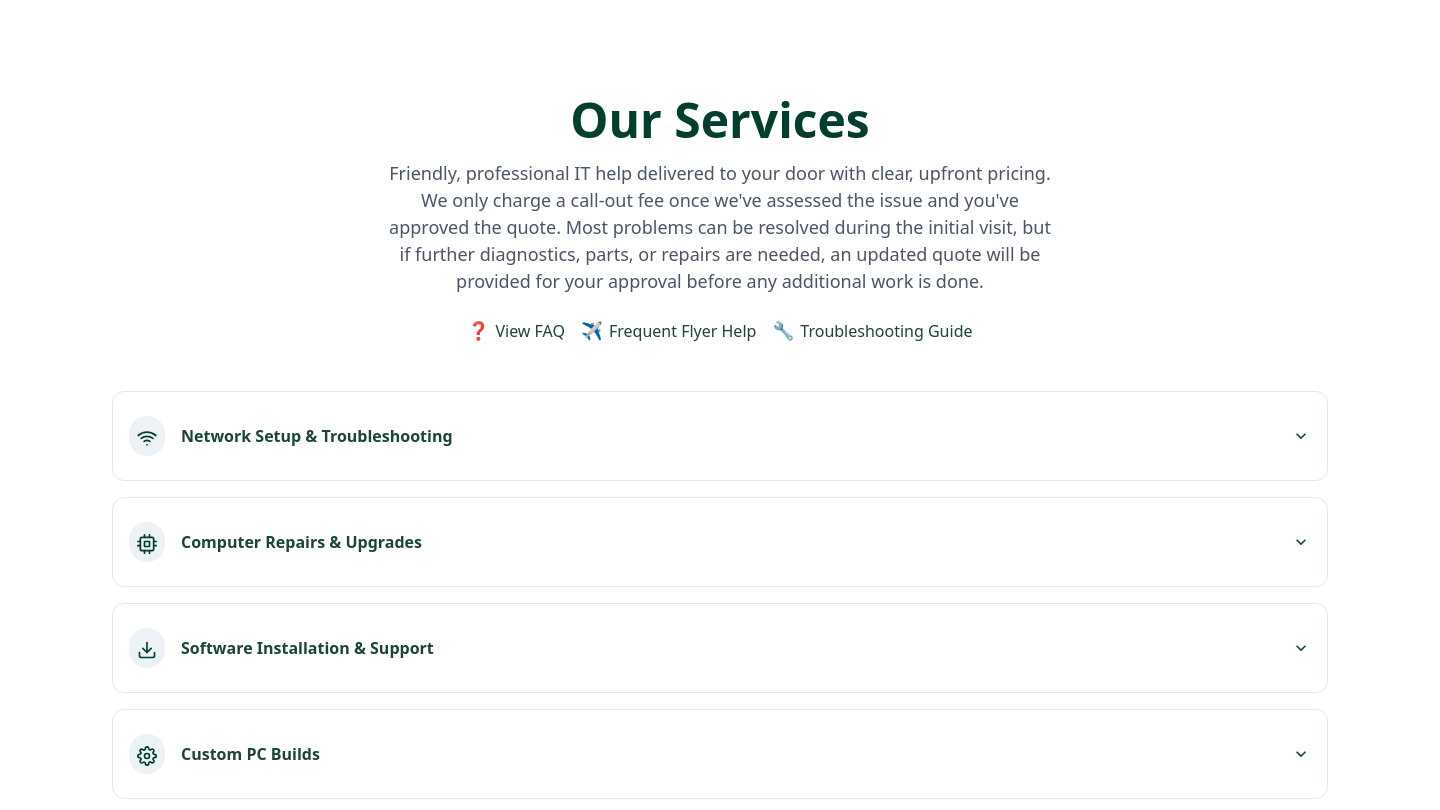
Test case: ServicesPage › renders services in mobile view with accordion
// Test accordion interaction
Step 1. Click the button "Network Setup & Troubleshooting" → [147, 436], box [113,392,1327,480]
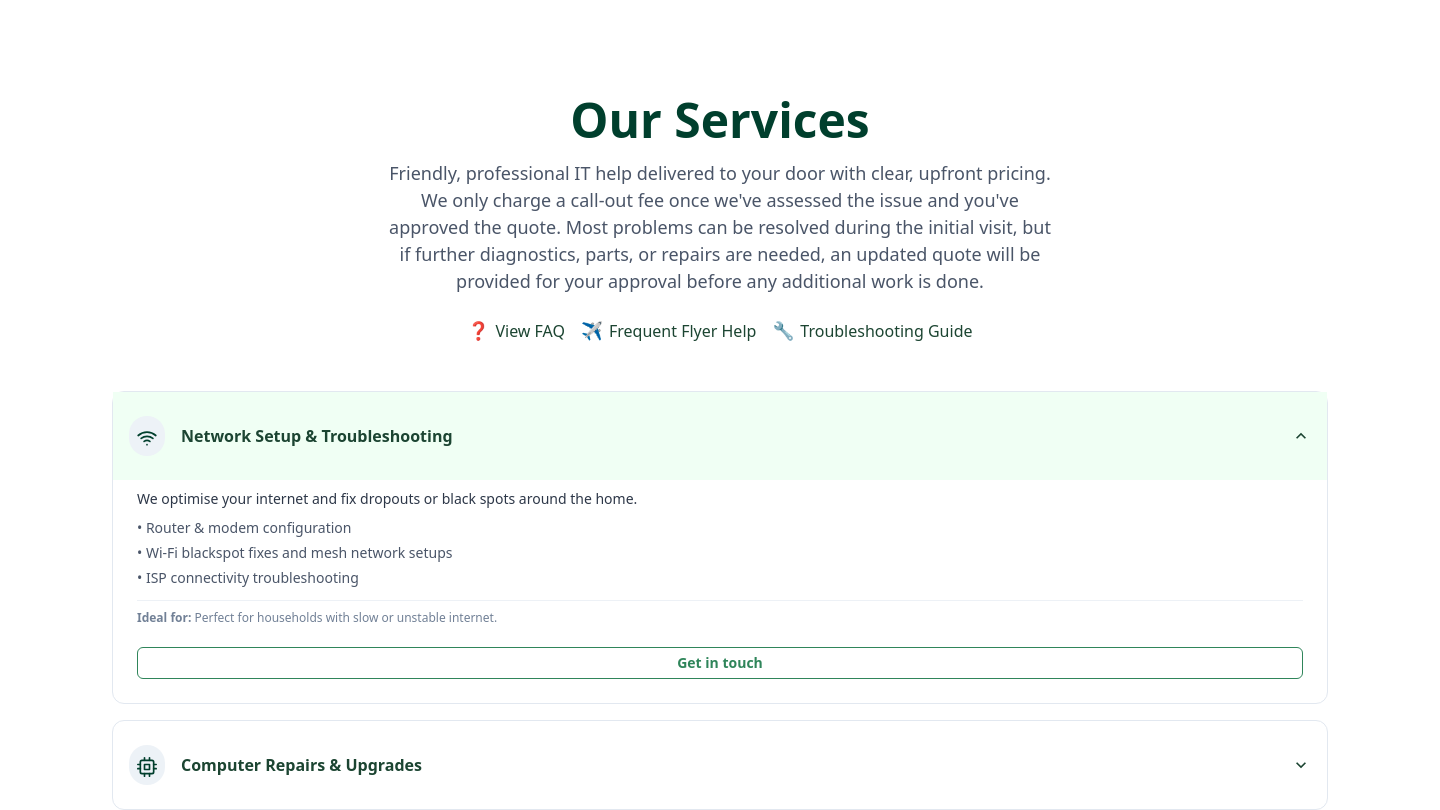
Result: the text "• Router & modem configuration" is shown at [137,517,352,538]
